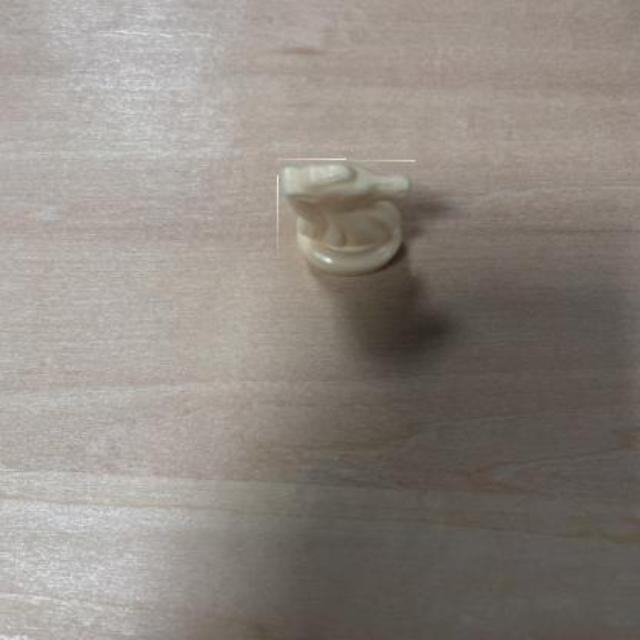white-knight: (278, 159, 418, 279)
